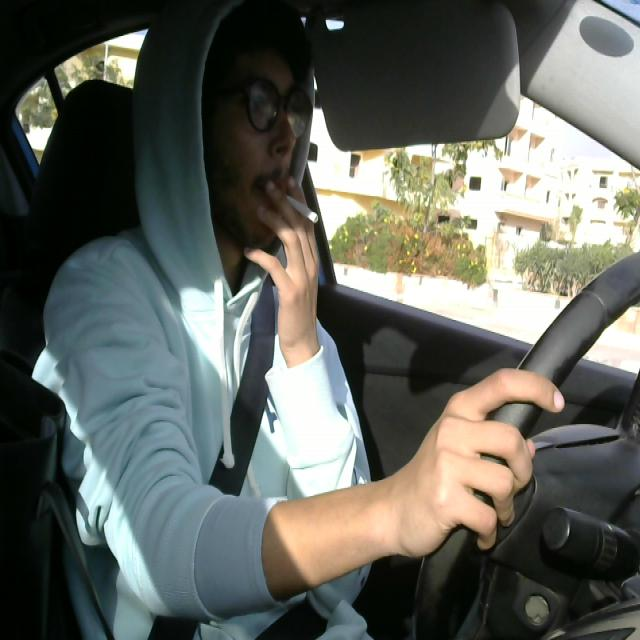smoking: (262, 178, 320, 238)
